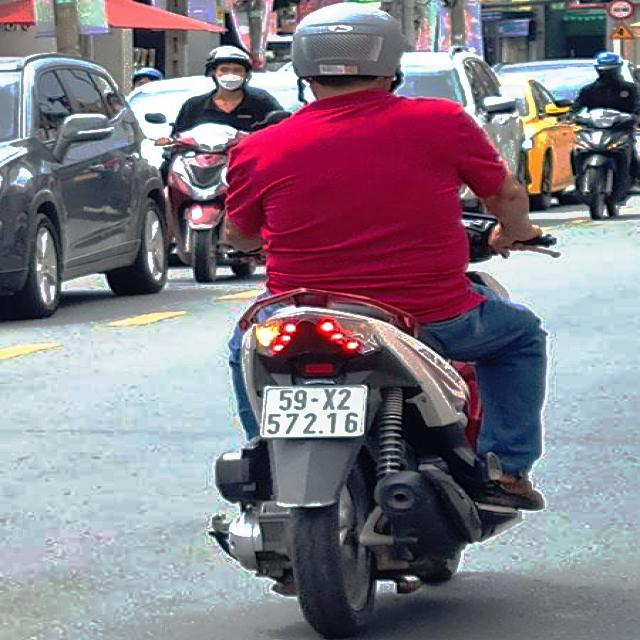license_plate: (264, 385, 372, 439)
